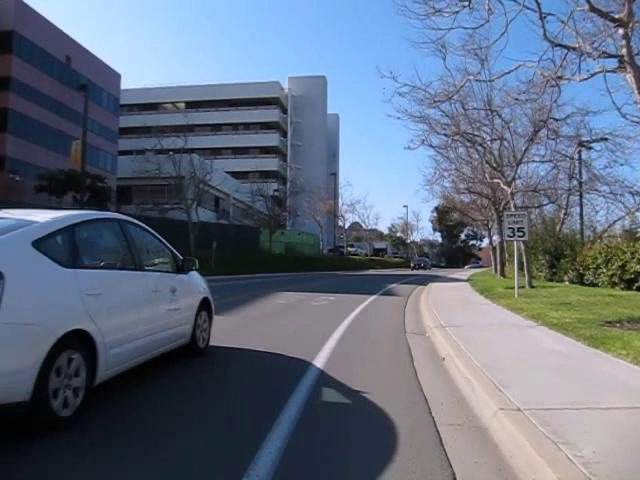speedLimit35: (502, 209, 529, 241)
